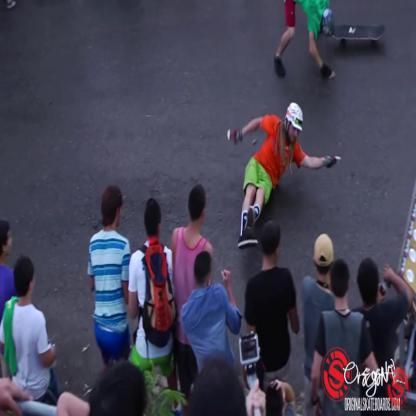Fall_Down: (227, 101, 345, 252)
